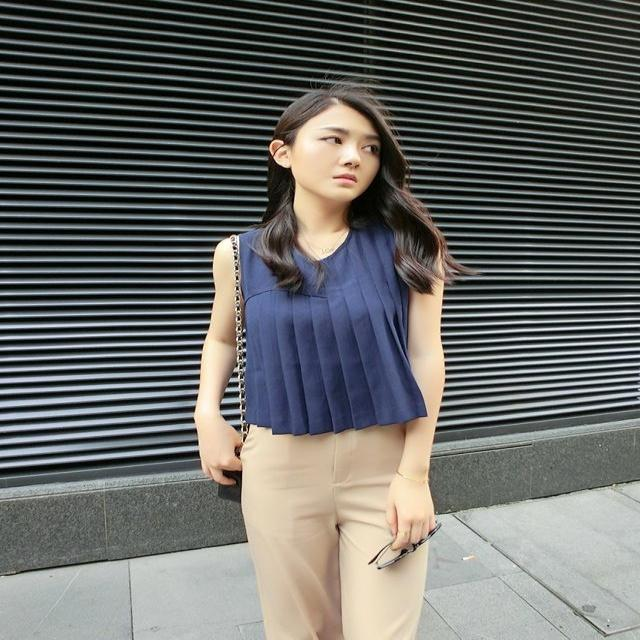trousers: (255, 409, 427, 637)
vest: (241, 223, 424, 431)
